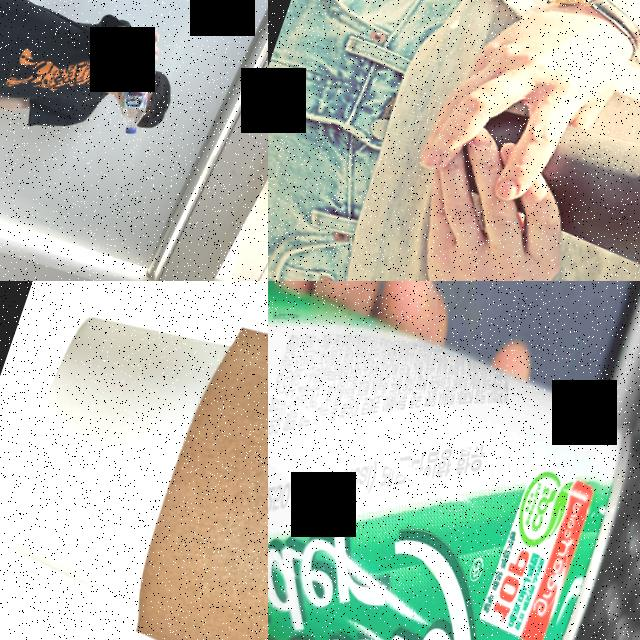bottle: (98, 19, 172, 137)
can: (268, 281, 640, 640)
cup: (0, 281, 268, 640), (437, 71, 640, 281)
